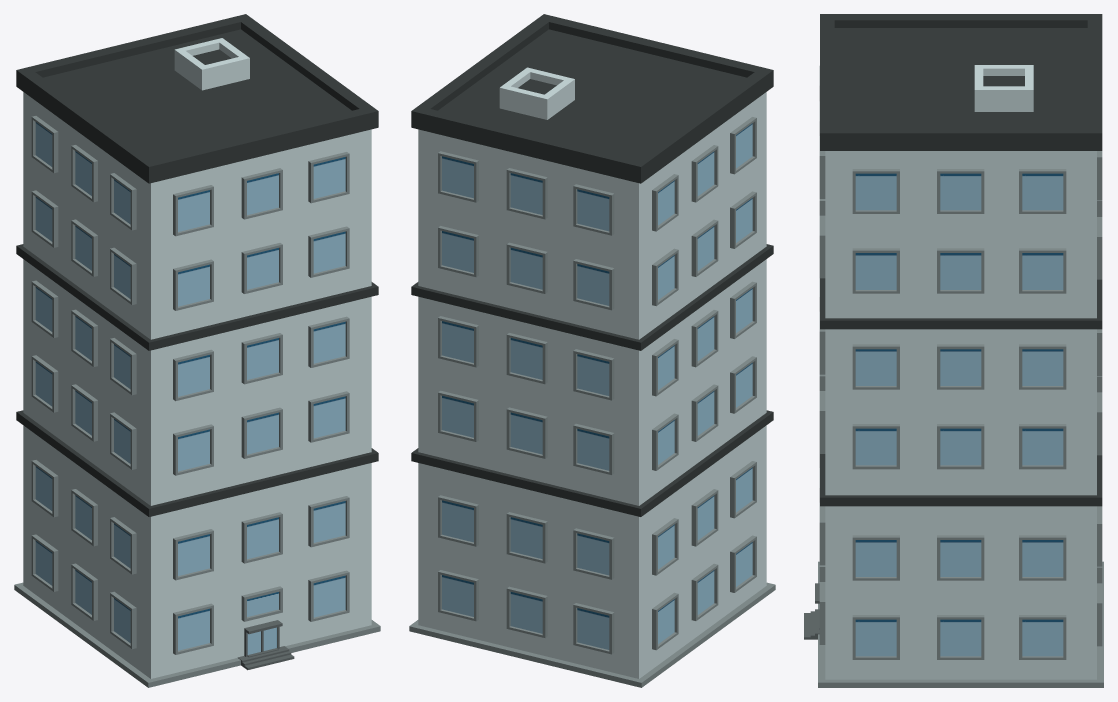
Rendered from White Stack Medium.fbx.
3 views of the same model, side by side, from view 1: azimuth 30°, elevation 25°; view 2: azimuth 150°, elevation 25°; view 3: azimuth 270°, elevation 25° (orthographic). The views are drawn at different scales.
Visible parts, largest first — view 1: White Stack Medium; view 2: White Stack Medium; view 3: White Stack Medium.
Part boxes in pixels (x1,y1,x2,y2): White Stack Medium: [14, 14, 380, 687]; White Stack Medium: [409, 14, 775, 687]; White Stack Medium: [804, 14, 1103, 687].
Size of the model in its own units: 6.65 by 14.58 by 6.98.
